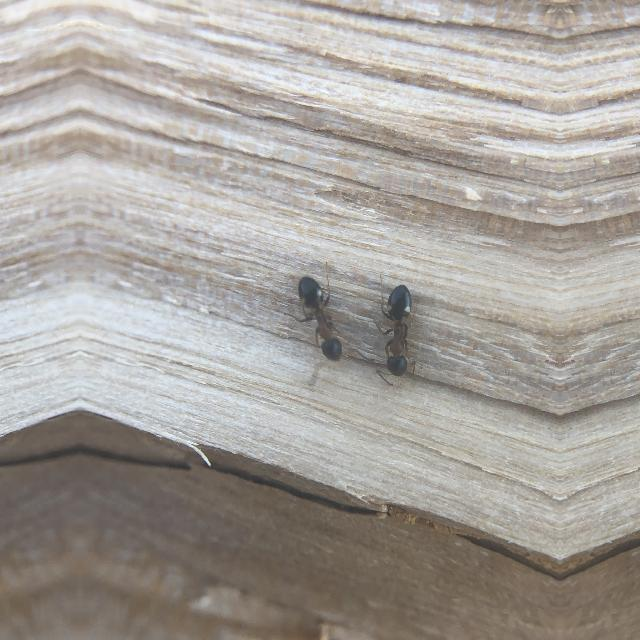Dolichoderus: (283, 258, 359, 378), (367, 268, 431, 390)
